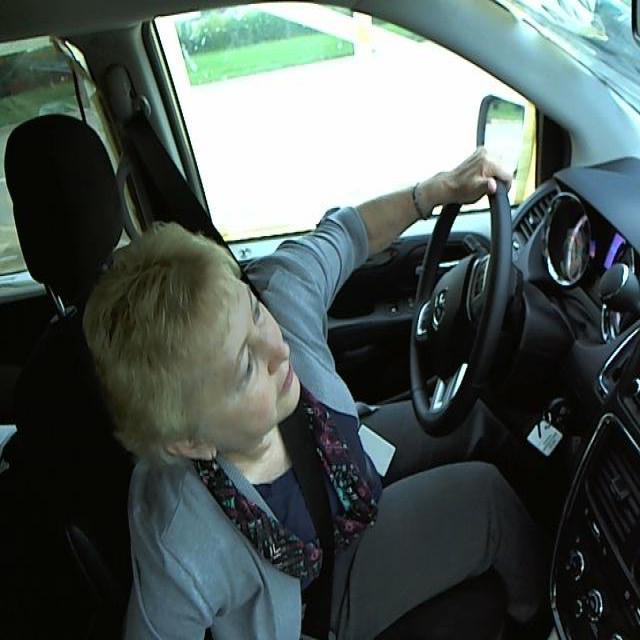seatbelt: (146, 130, 219, 242)
